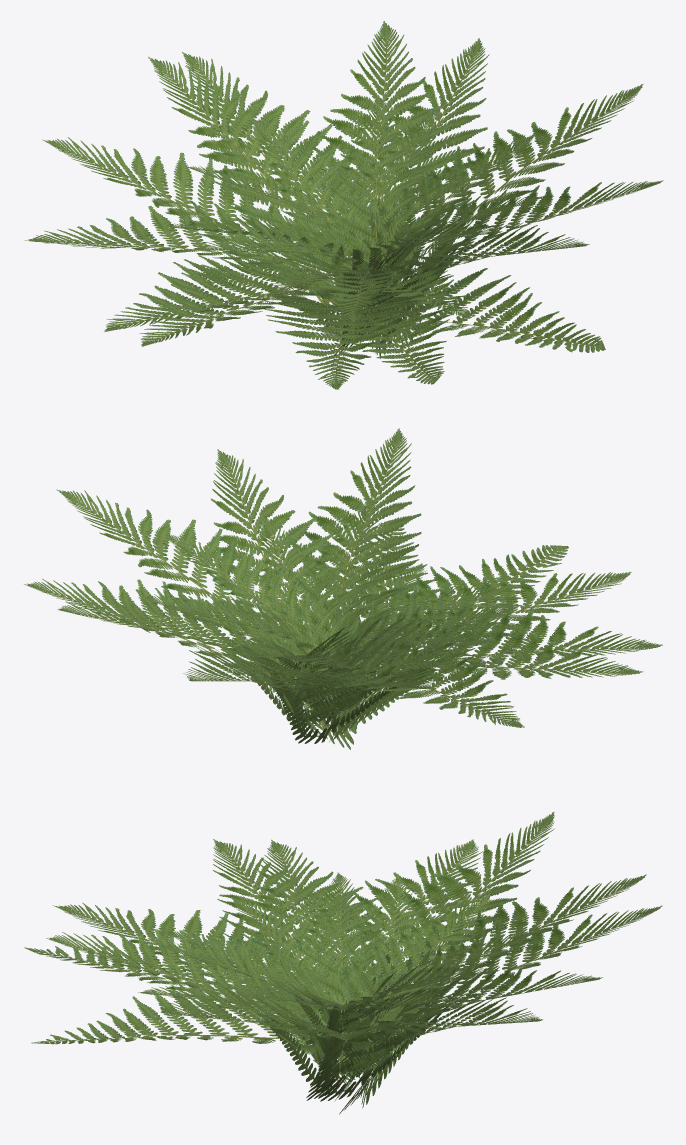
File: buisson 1.fbx
3 views of the same model, one above another, from view 1: azimuth 30°, elevation 25°; view 2: azimuth 150°, elevation 25°; view 3: azimuth 270°, elevation 25° (orthographic). The views are drawn at different scales.
Parts seen in each view (by area): view 1: Buisson; view 2: Buisson; view 3: Buisson.
Part boxes in pixels (bbox=[...]): Buisson: bbox=[24, 21, 663, 389]; Buisson: bbox=[24, 428, 662, 749]; Buisson: bbox=[24, 811, 662, 1114].
Size of the model in its own units: 47.25 by 16.58 by 45.9.
